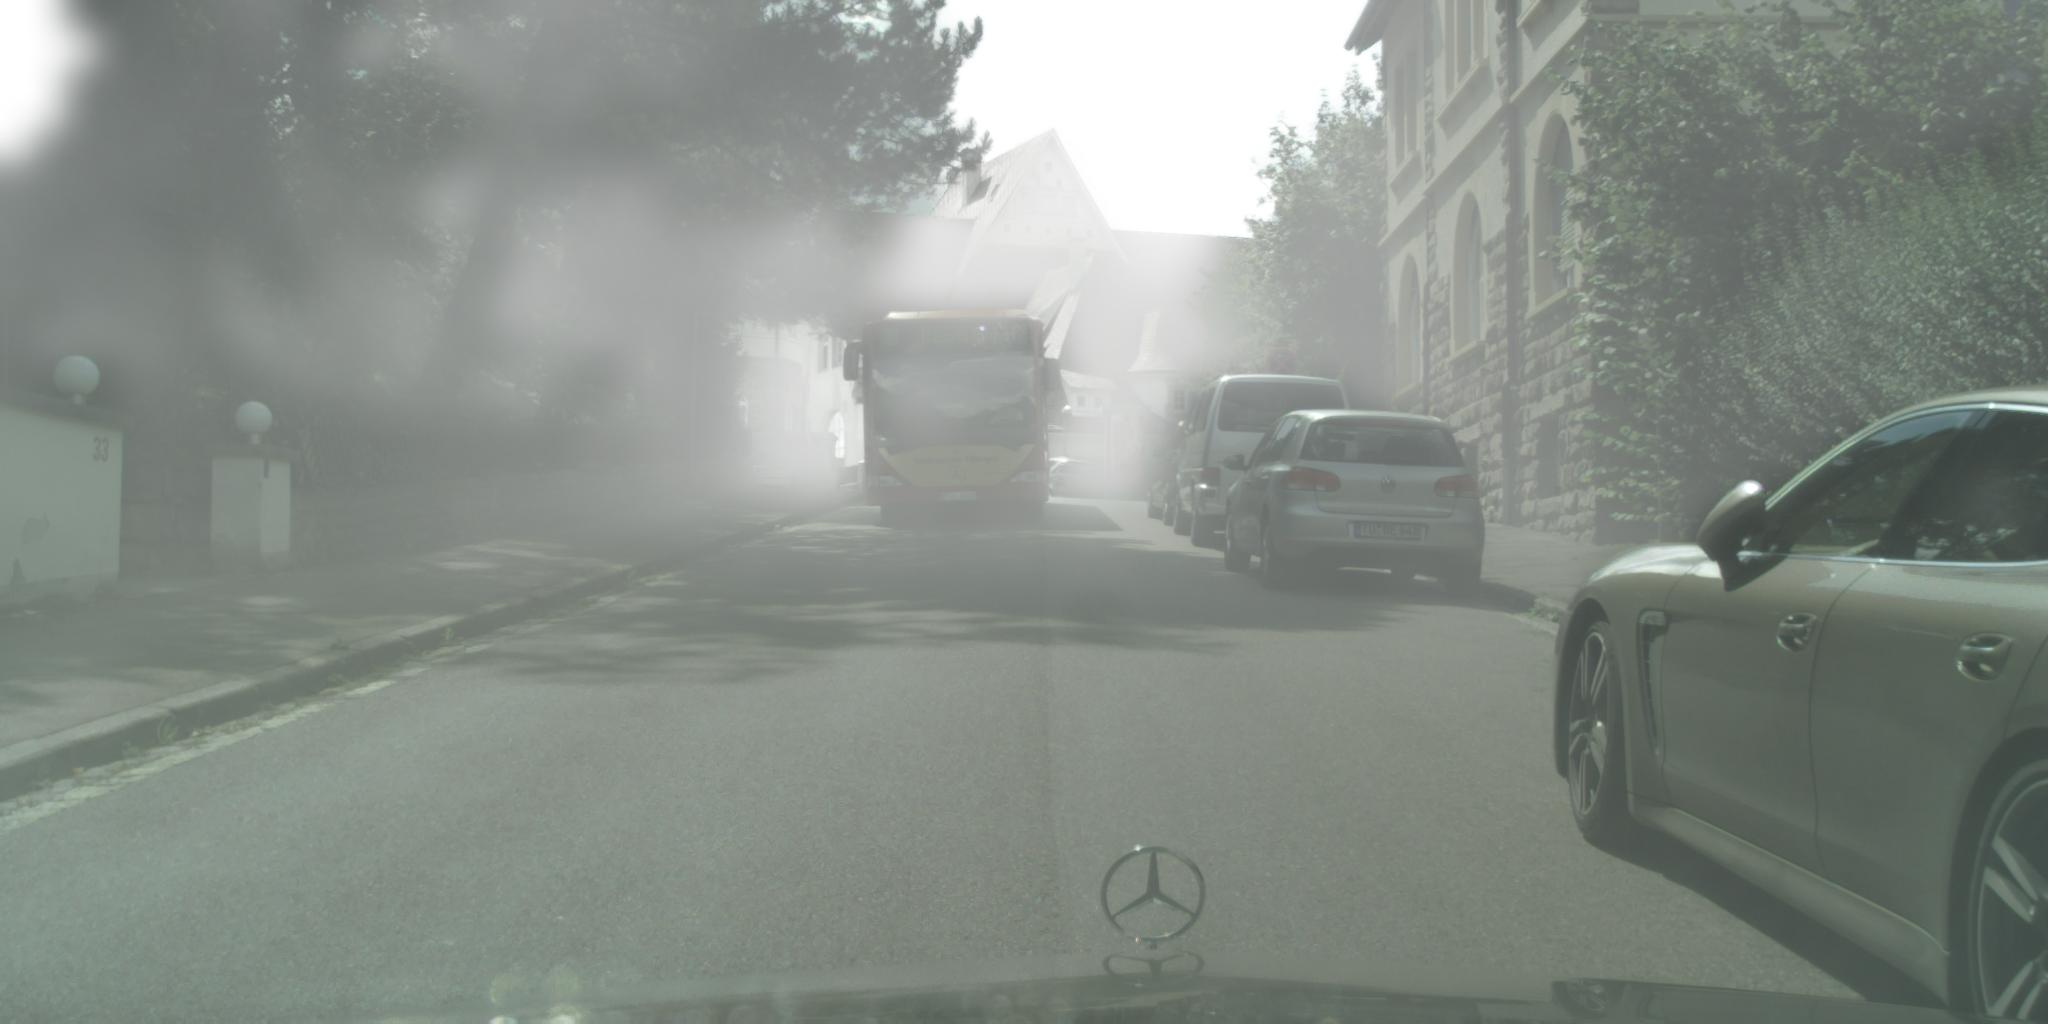bus: (842, 310, 1062, 522)
car: (1552, 387, 2048, 1024), (1223, 411, 1485, 601), (1176, 375, 1353, 547), (1149, 423, 1192, 528), (1036, 458, 1108, 508)
